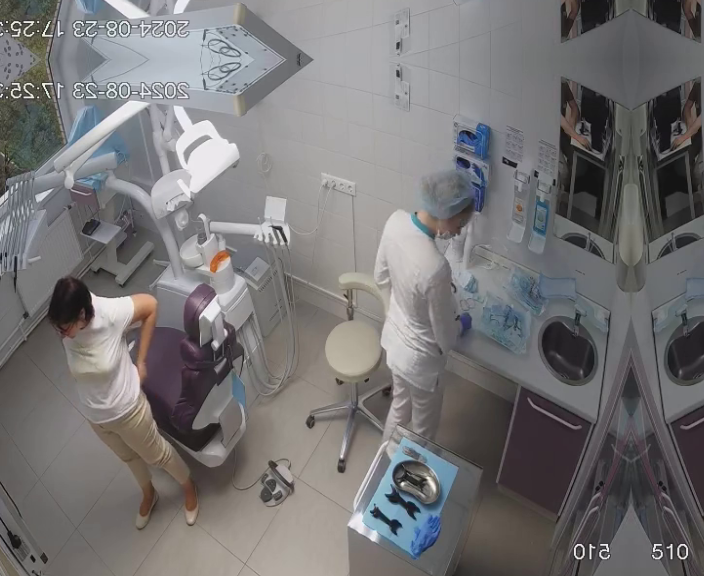Empty: (128, 286, 256, 470)
